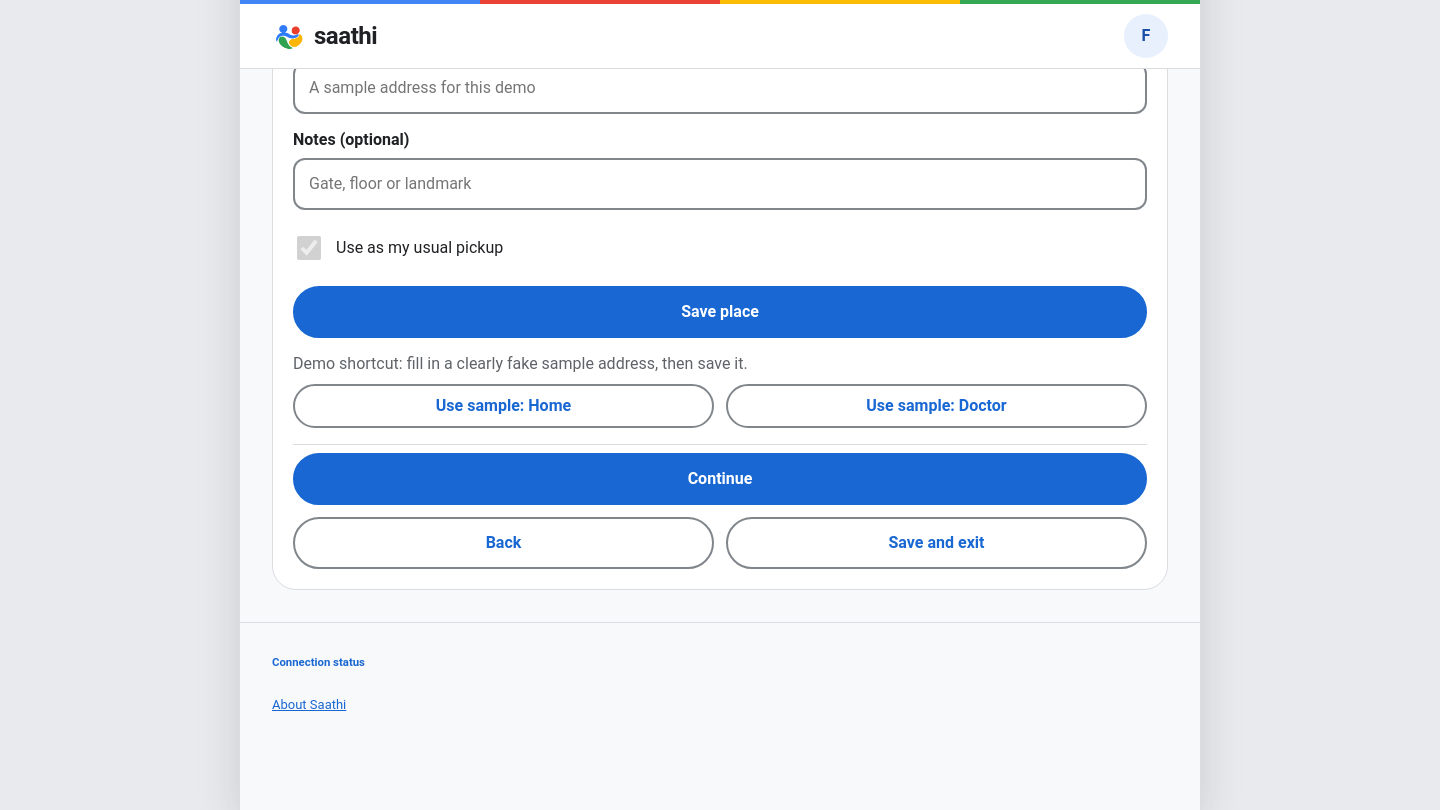
Test: places use clearly fake samples, and server checks come back in plain words
(page scrolled)
Step 1. Click the button "Use sample: Home" → (504, 406), box [293,384,714,428]
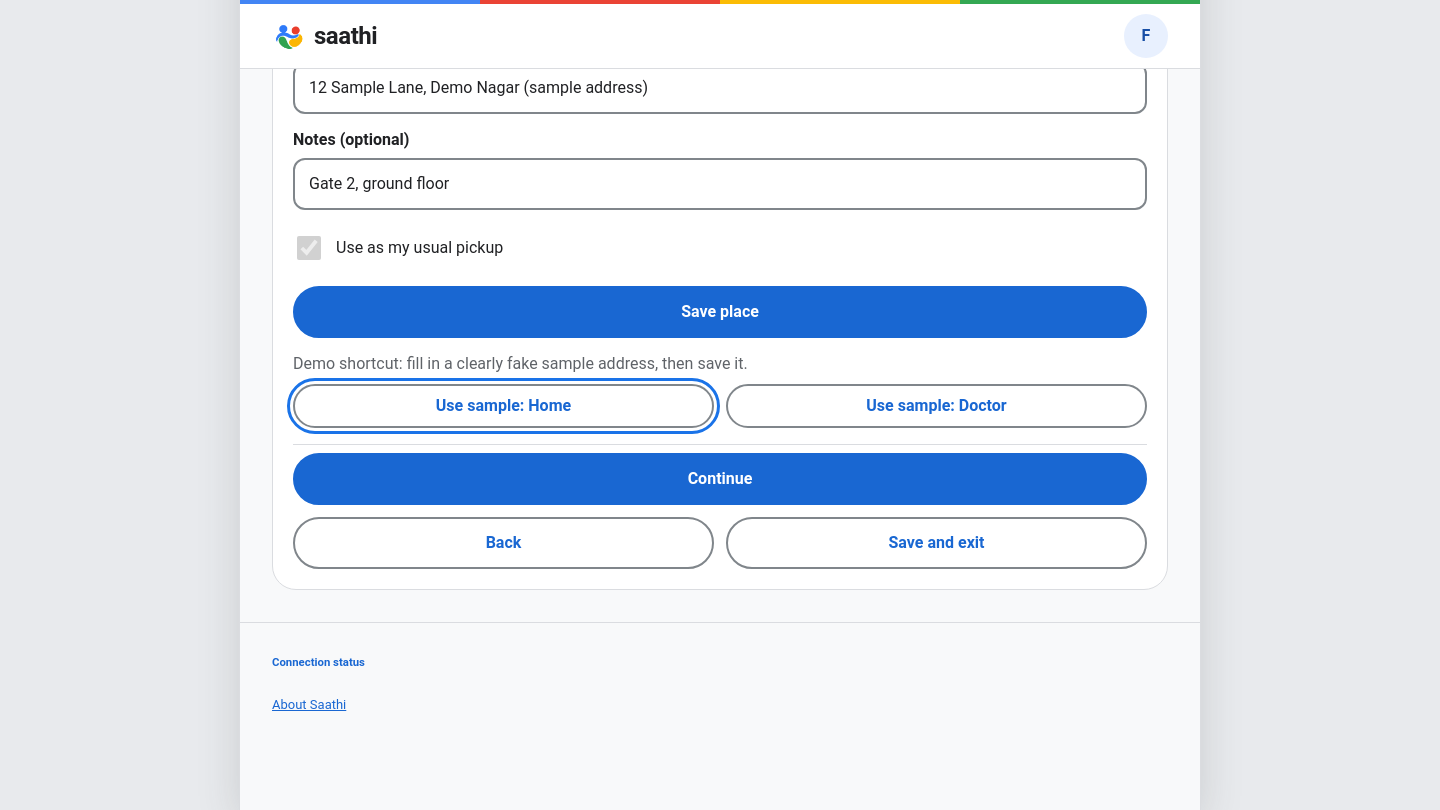
Check: the field labelled "Address" holds "12 Sample Lane, Demo Nagar (sample address)", box [293,62,1147,114]
Step 2. Click the button "Save place" → (720, 312), box [293,286,1147,338]
(page scrolled)
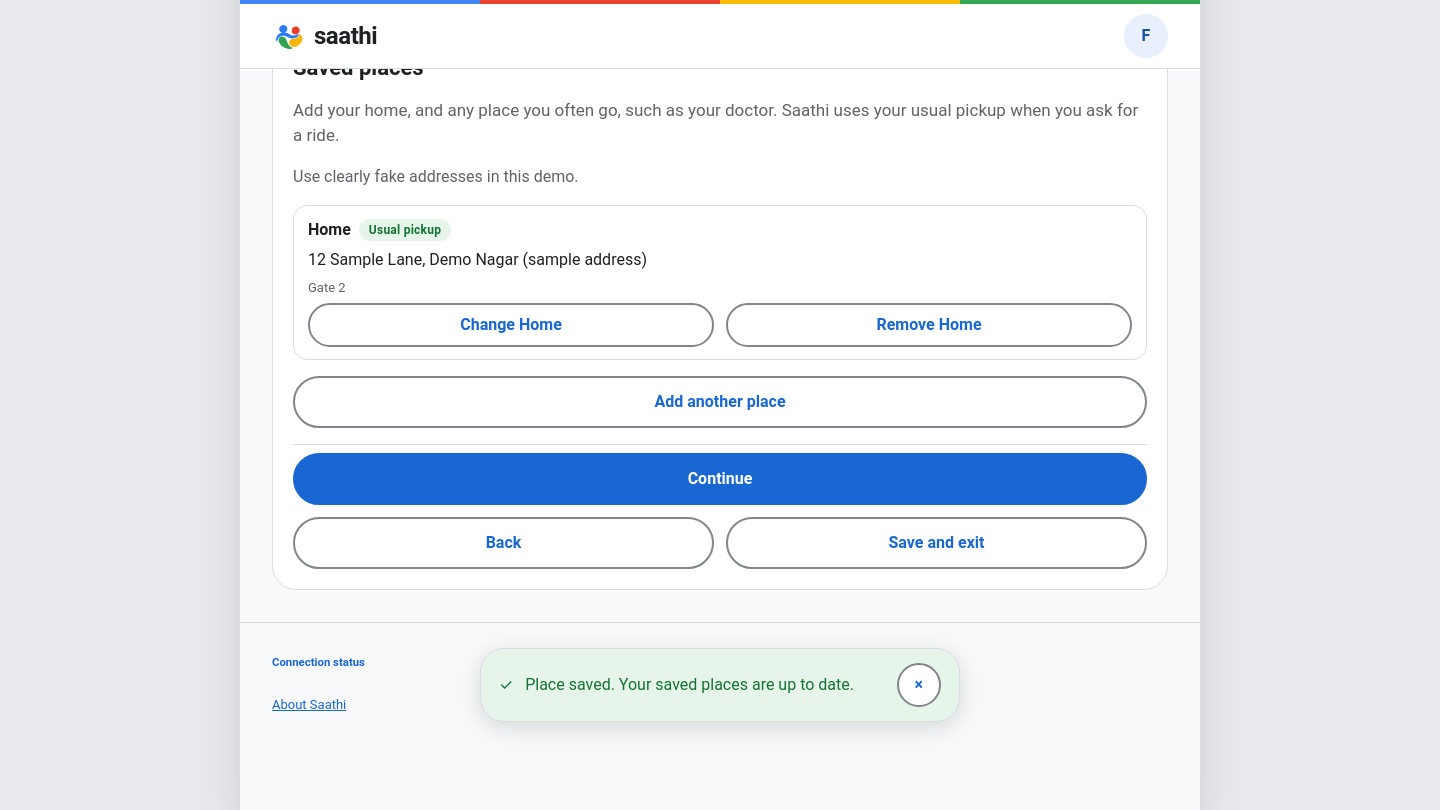
Check: the text "Usual pickup" is shown, box [359,218,451,240]
Step 3. Click the button "Continue" → (720, 479), box [293,453,1147,505]
(page scrolled)
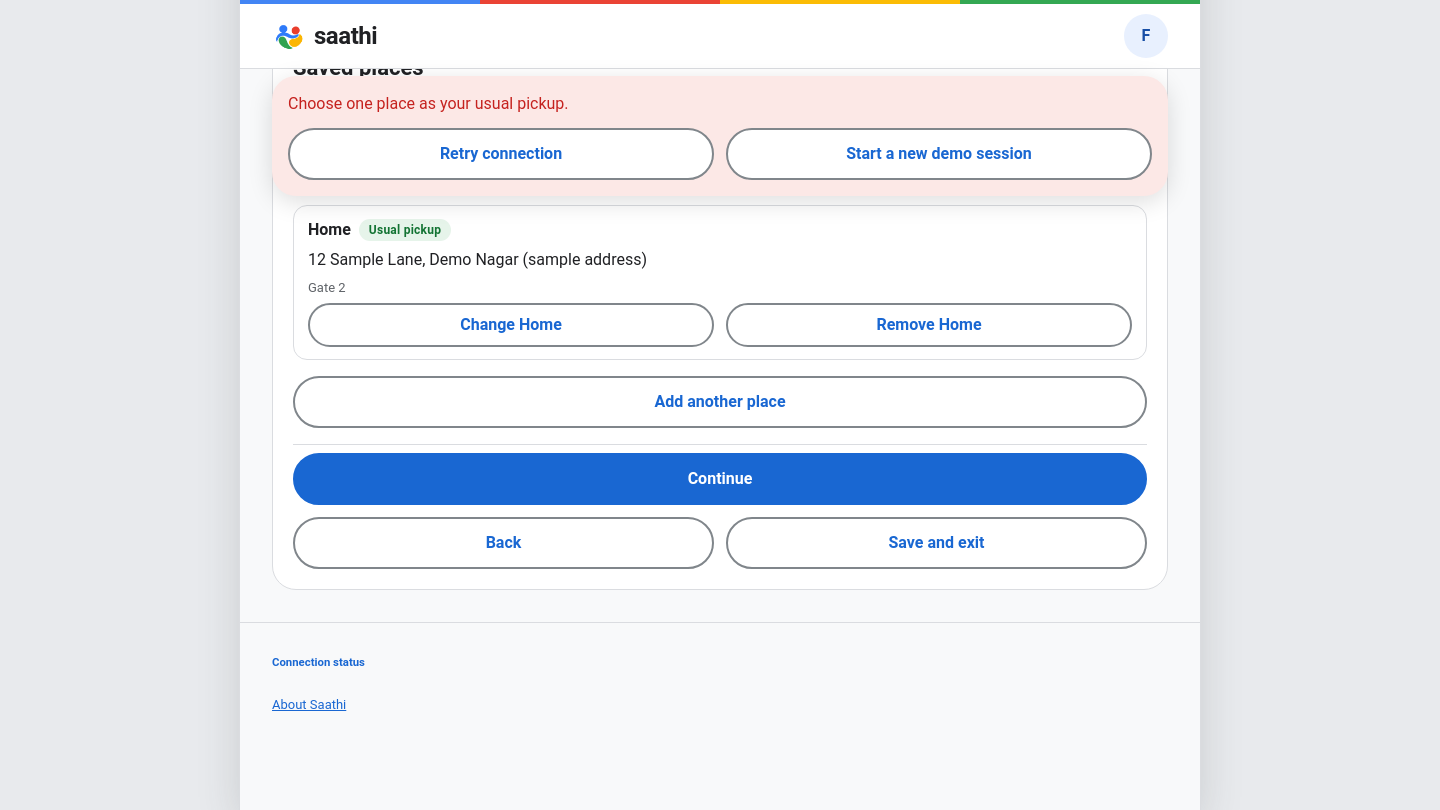
Check: the heading "Saved places" is shown, box [293,55,424,80]
Check: the message shows "Choose one place as your usual pickup.", box [288,94,569,113]
